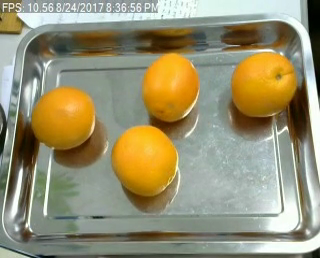Orange: (112, 124, 179, 197), (229, 51, 297, 116), (30, 86, 95, 149), (143, 52, 199, 121)
